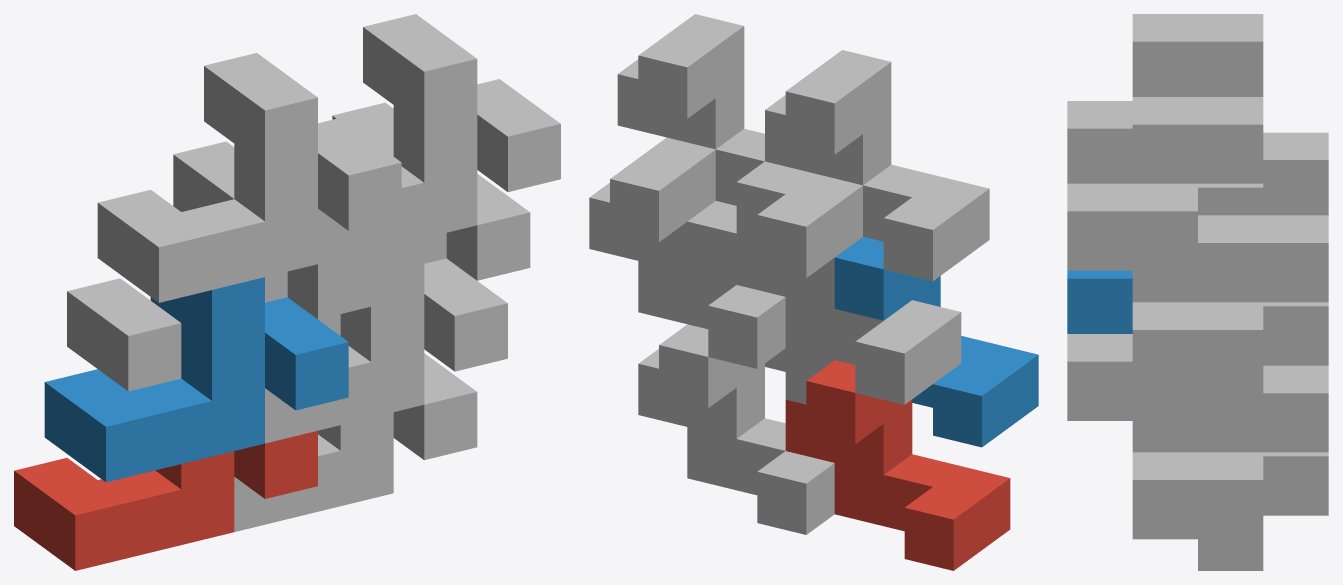
File: tiling.obj
The picture shows the model from 3 angles, left to right: view 1: azimuth 30°, elevation 25°; view 2: azimuth 150°, elevation 25°; view 3: azimuth 270°, elevation 25°; orthographic projection. The views are drawn at different scales.
Parts seen in each view (by area): view 1: copy_1_domain_4, copy_1_domain_2, copy_1_domain_8, copy_1_domain_1, copy_1_domain_6, copy_1_domain_3, copy_1_domain_5, copy_1_domain_7; view 2: copy_1_domain_4, copy_1_domain_3, copy_1_domain_1, copy_1_domain_7, copy_1_domain_5, copy_1_domain_8, copy_1_domain_2, copy_1_domain_6; view 3: copy_1_domain_7, copy_1_domain_8, copy_1_domain_5, copy_1_domain_4, copy_1_domain_6, copy_1_domain_3, copy_1_domain_2.
Part boxes in pixels (<box>): copy_1_domain_4: <box>97,53,401,302</box>; copy_1_domain_2: <box>44,277,348,482</box>; copy_1_domain_8: <box>318,14,560,263</box>; copy_1_domain_1: <box>14,430,317,570</box>; copy_1_domain_6: <box>265,238,507,443</box>; copy_1_domain_3: <box>67,141,370,391</box>; copy_1_domain_5: <box>234,353,477,531</box>; copy_1_domain_7: <box>318,102,530,335</box>; copy_1_domain_4: <box>765,50,989,281</box>; copy_1_domain_3: <box>736,173,961,404</box>; copy_1_domain_1: <box>785,360,1010,570</box>; copy_1_domain_7: <box>589,137,785,368</box>; copy_1_domain_5: <box>638,324,834,534</box>; copy_1_domain_8: <box>617,14,813,238</box>; copy_1_domain_2: <box>834,237,1038,447</box>; copy_1_domain_6: <box>687,201,834,404</box>; copy_1_domain_7: <box>1132,215,1328,420</box>; copy_1_domain_8: <box>1067,97,1263,302</box>; copy_1_domain_5: <box>1132,365,1328,570</box>; copy_1_domain_4: <box>1067,14,1263,183</box>; copy_1_domain_6: <box>1067,334,1197,452</box>; copy_1_domain_3: <box>1263,132,1328,215</box>; copy_1_domain_2: <box>1067,270,1132,333</box>.
Size of the model in its own units: 8 by 8 by 4.
